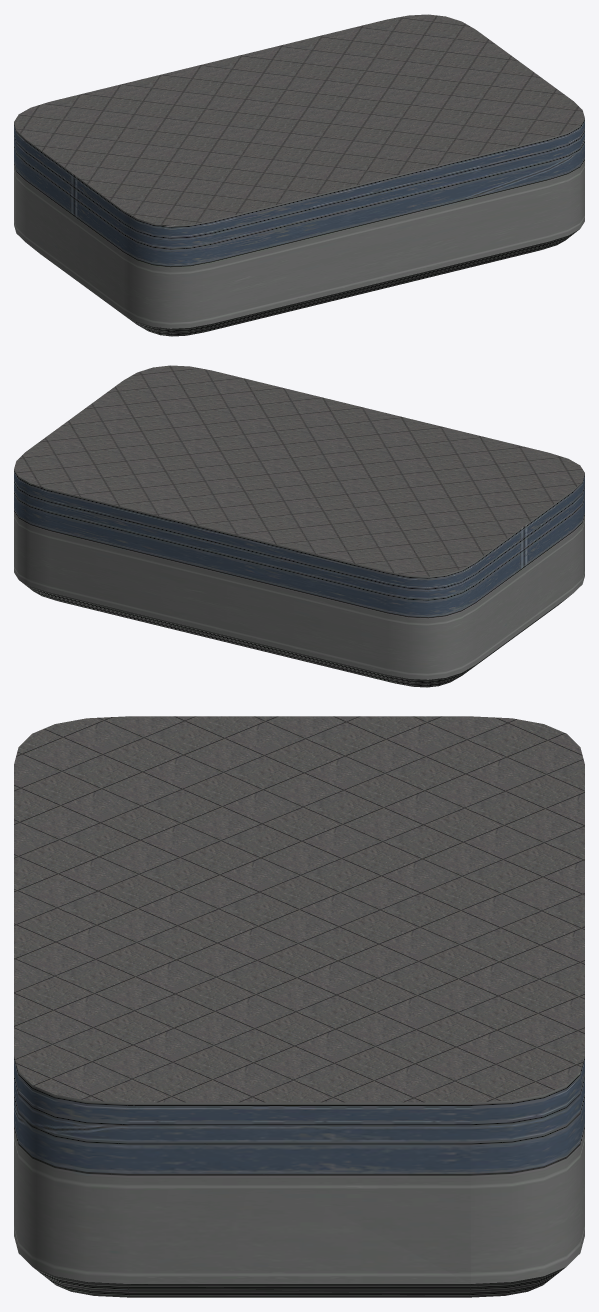
Rendered from Club_BoothFloor_01.FBX.
The picture shows the model from 3 angles, top to bottom: view 1: azimuth 30°, elevation 25°; view 2: azimuth 150°, elevation 25°; view 3: azimuth 270°, elevation 25°; orthographic projection. The views are drawn at different scales.
Parts seen in each view (by area): view 1: Club_BoothFloor_01; view 2: Club_BoothFloor_01; view 3: Club_BoothFloor_01.
Boxes of the visible parts, x1,y1,x2,y2 form: Club_BoothFloor_01: (14,14,584,336); Club_BoothFloor_01: (14,365,584,687); Club_BoothFloor_01: (14,716,584,1297).
Bounding box in the file's own units: 8 × 2 × 5.
